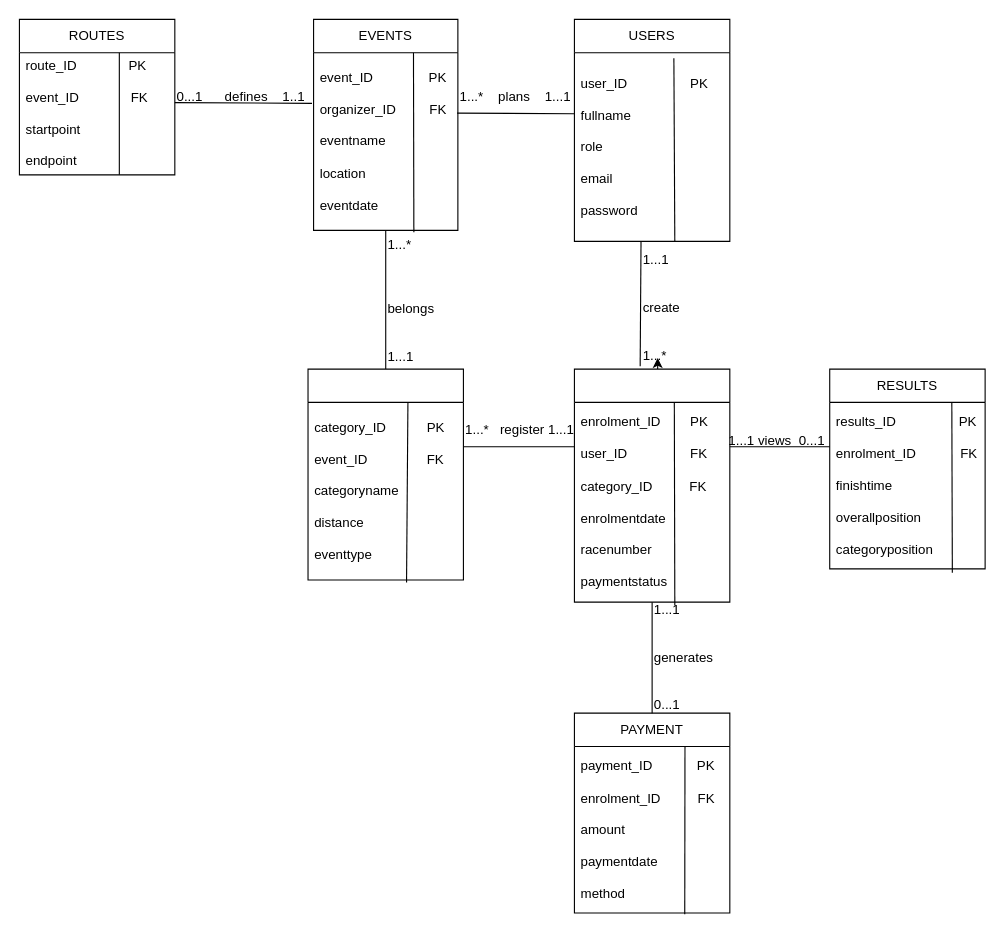
This 1005x936 diagram has some shape labels left out. Here are the shapes that lost their labels. From the top down, the box of each, then its label:
(307, 368, 463, 580): CATEGORIES
(573, 368, 730, 602): ENROLMENTS
